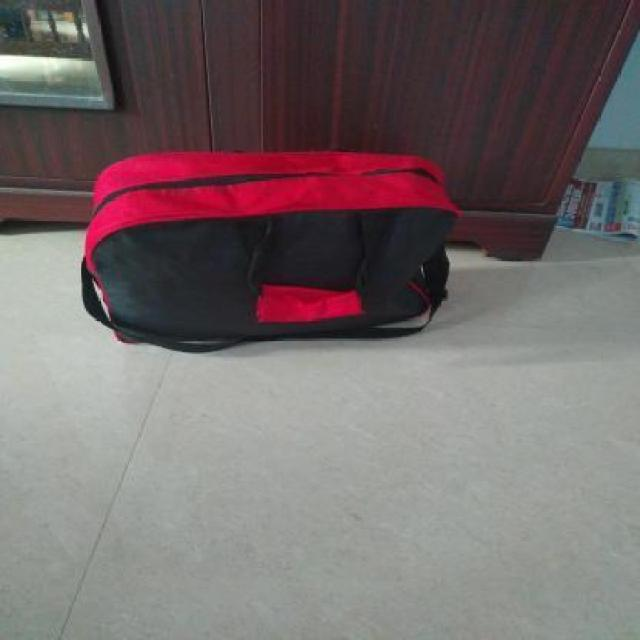backpack: (78, 144, 464, 356)
